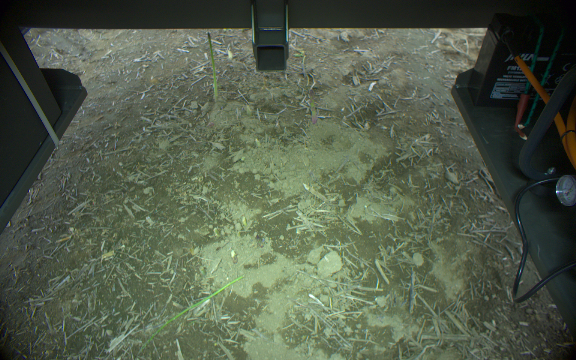aspa: (131, 271, 247, 360), (206, 31, 222, 102), (306, 87, 318, 124)
